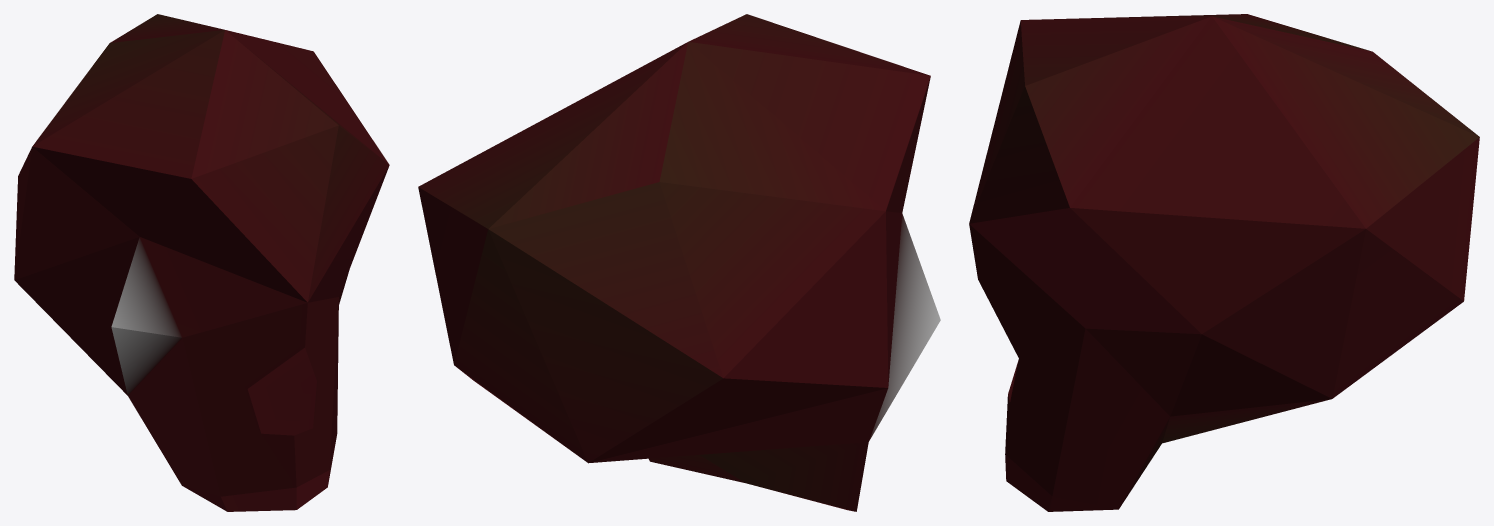
File: skull.fbx
3 views of the same model, side by side, from view 1: azimuth 30°, elevation 25°; view 2: azimuth 150°, elevation 25°; view 3: azimuth 270°, elevation 25° (orthographic). The views are drawn at different scales.
Parts seen in each view (by area): view 1: Cube; view 2: Cube; view 3: Cube.
Part boxes in pixels (box(x1,y1,x2,y2)): Cube: box(14, 14, 389, 511); Cube: box(418, 14, 940, 511); Cube: box(969, 14, 1479, 511).
Bounding box in the file's own units: 621 × 723 × 693.
